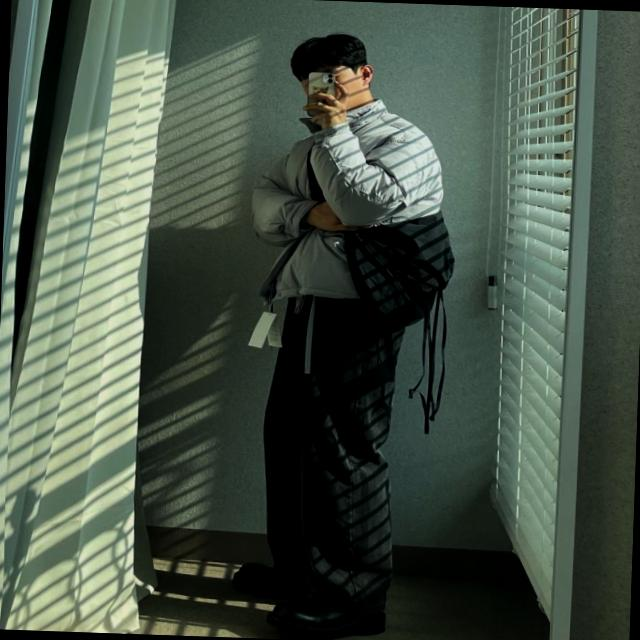denimpants: (254, 286, 402, 608)
padding: (249, 92, 452, 302)
